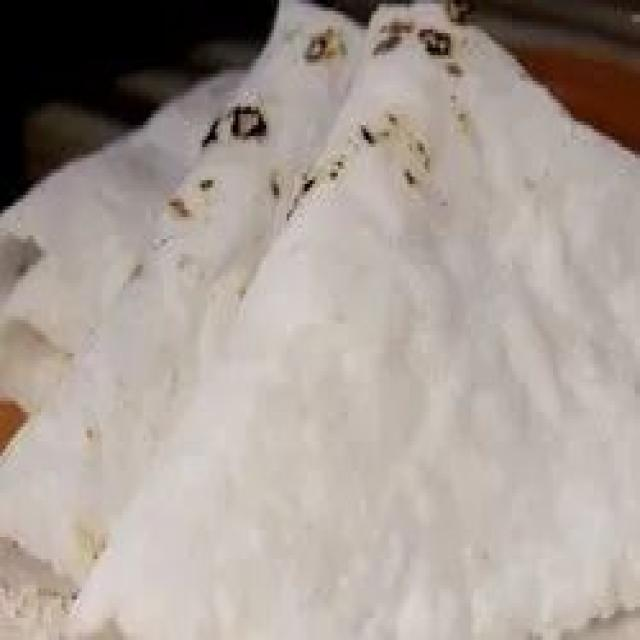RICE BHAKRI: (0, 1, 637, 636)
